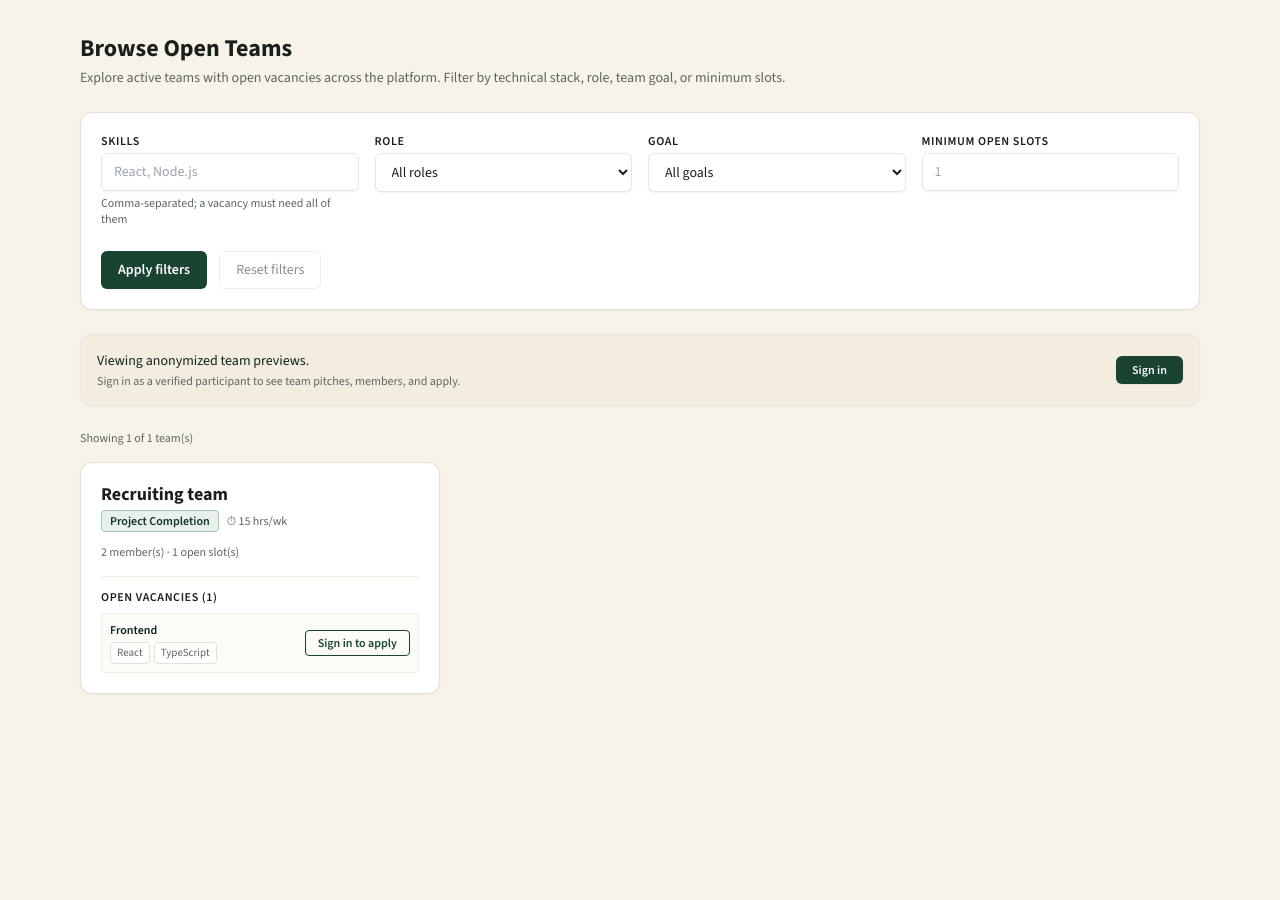
Scenario: OpenTeamsBoard component (US-013 / Task 4) › renders empty state with "Reset Filters" when active filters return no teams, and clicking it resets
Check: the heading "Recruiting team" is shown, box [101,482,228,506]
Select "AI/ML" in the dropdown labelled "Role" at (503,172), box [374,153,632,192]
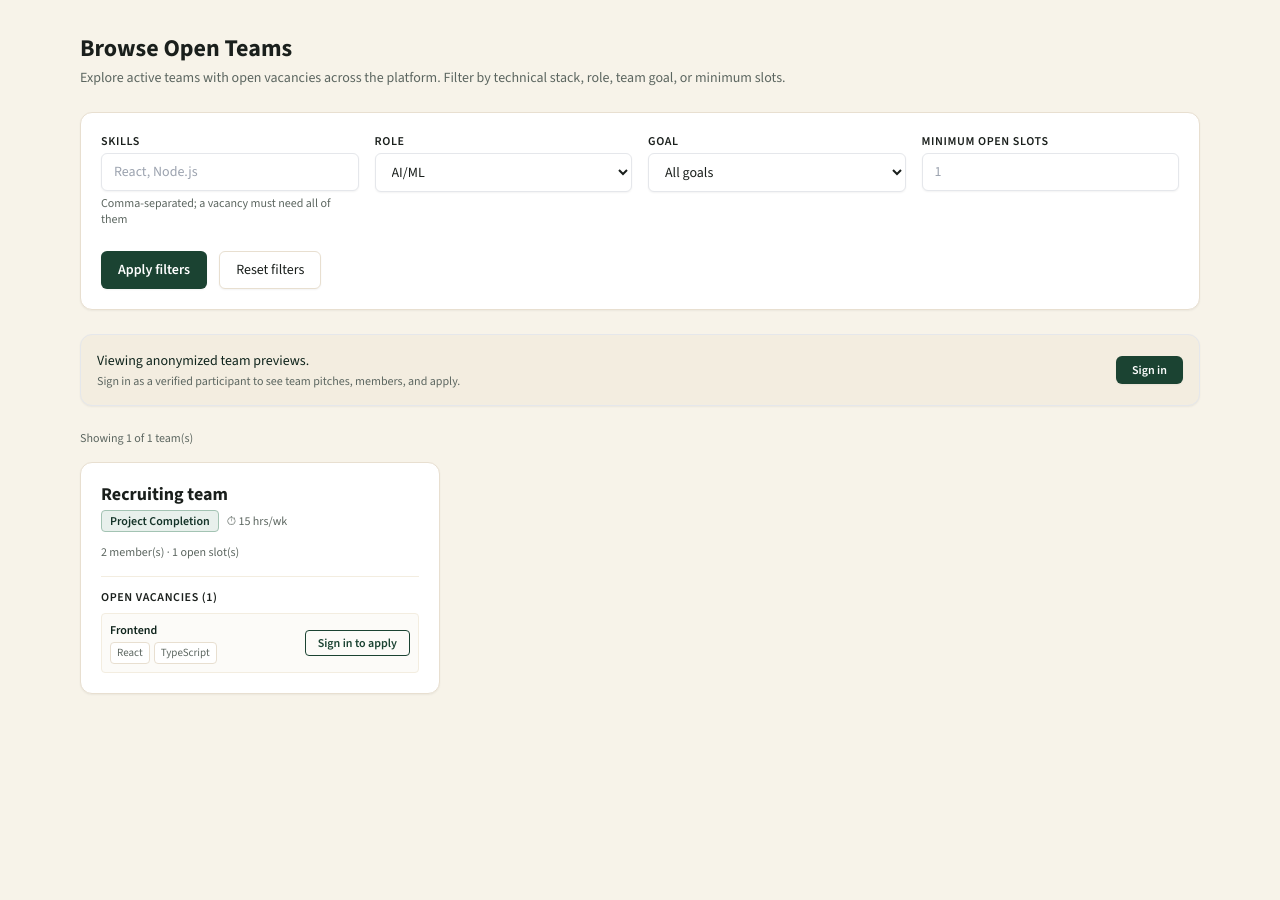
Click the button "Apply filters" at (154,270), box [101,251,207,289]
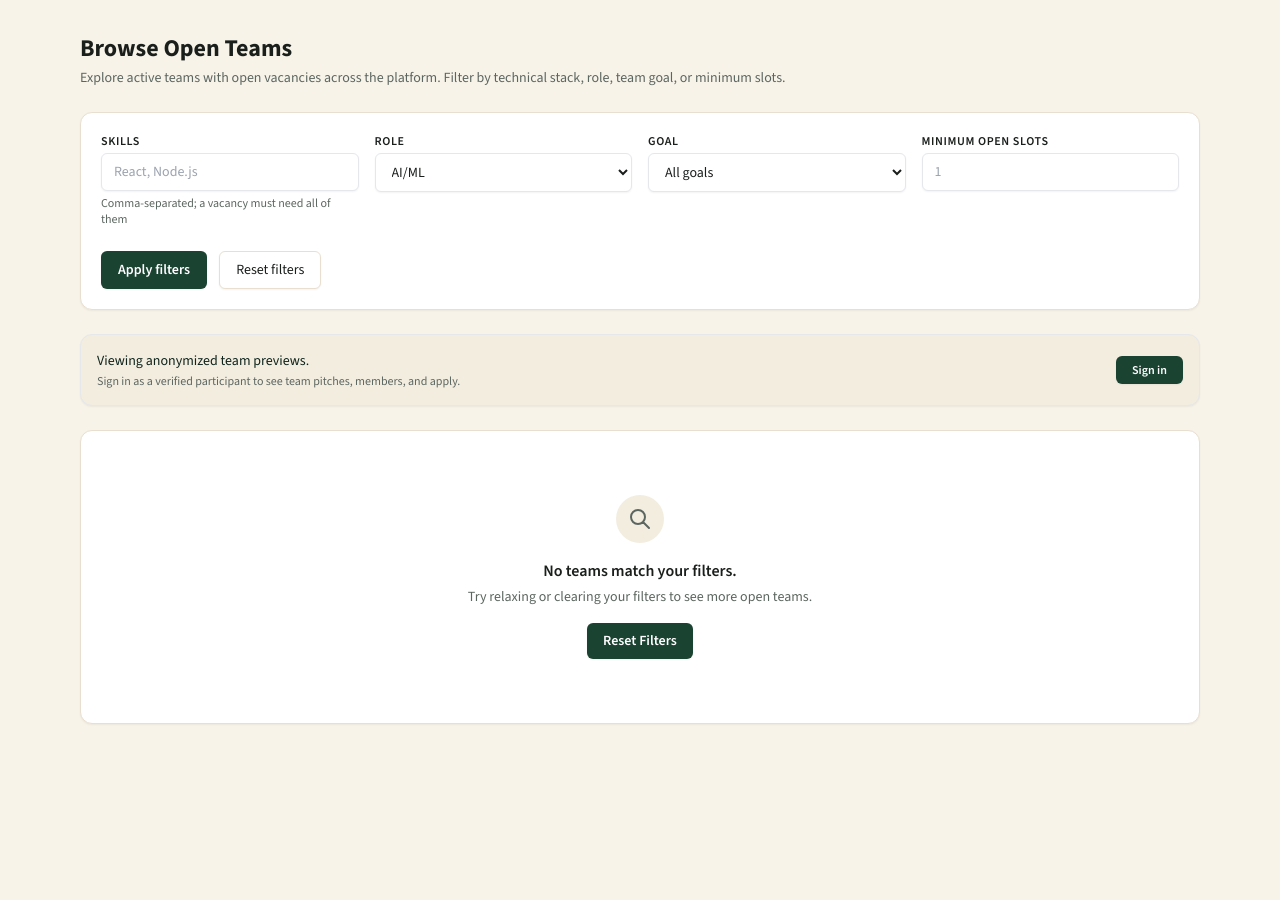
Check: the text "No teams match your filters." is shown, box [543,560,737,581]
Check: the button "Reset Filters" is shown
Click the button "Reset Filters" at (640,641), box [587,623,693,659]
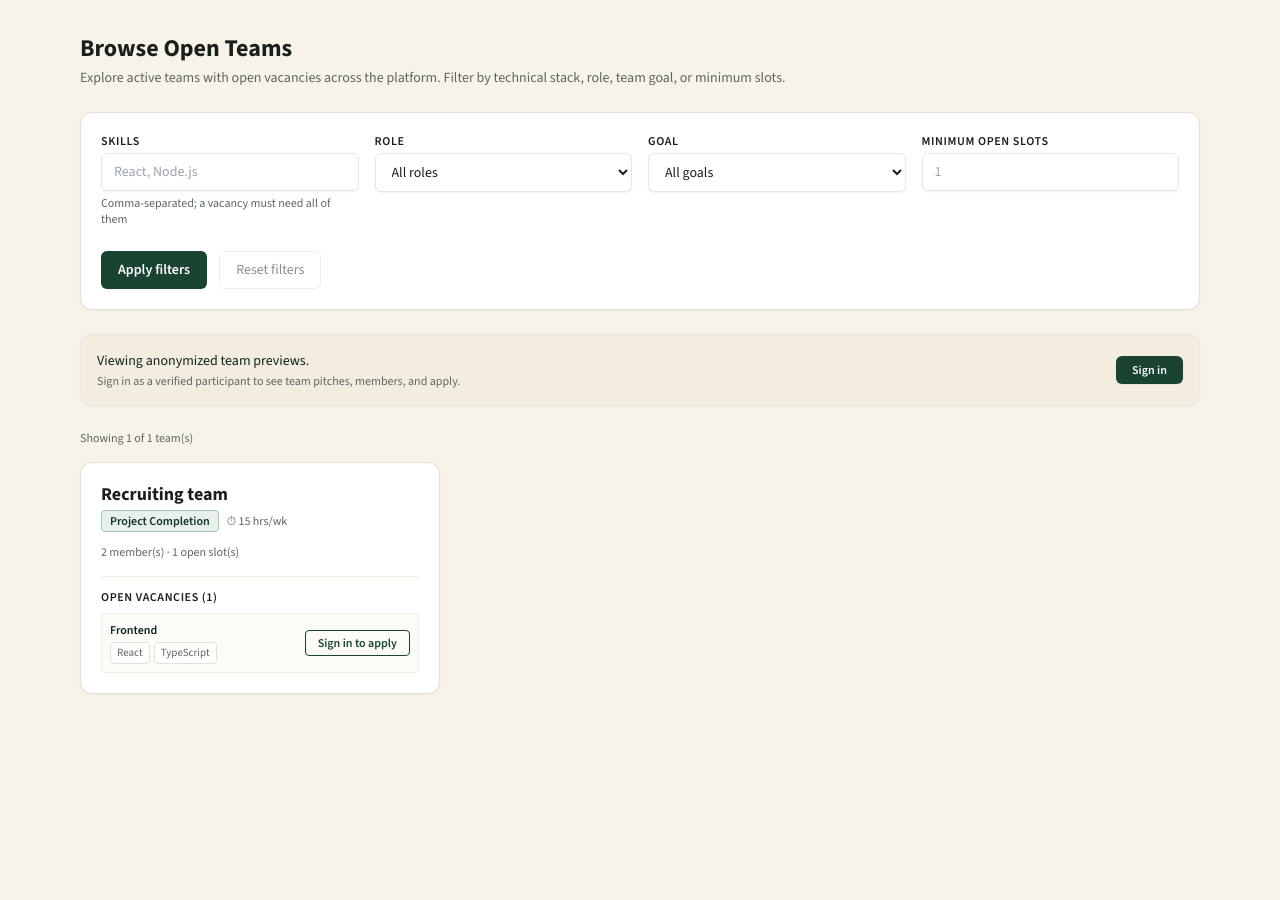
Check: the heading "Recruiting team" is shown, box [101,482,228,506]
